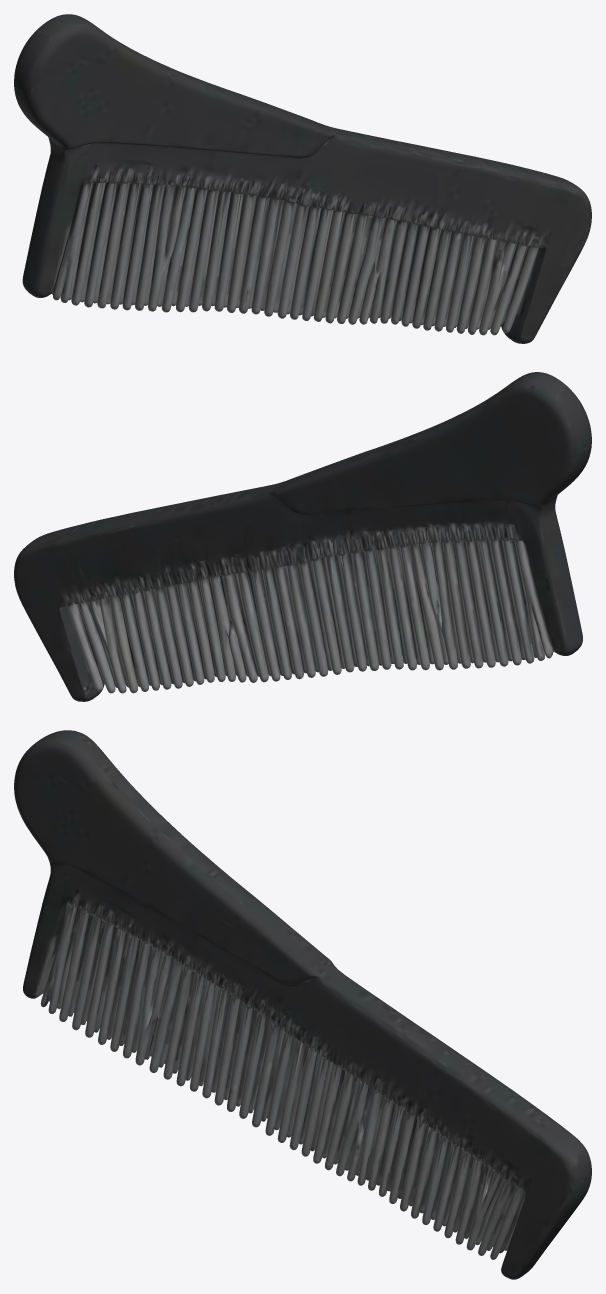
The model's file is tool-shuzi.glb.
3 views of the same model, one above another, from view 1: azimuth 30°, elevation 25°; view 2: azimuth 150°, elevation 25°; view 3: azimuth 330°, elevation 25° (orthographic).
Visible parts, largest first — view 1: node_0; view 2: node_0; view 3: node_0.
Boxes of the visible parts, x1,y1,x2,y2 form: node_0: (14, 14, 591, 343); node_0: (14, 372, 591, 701); node_0: (14, 730, 591, 1279).
Bounding box in the file's own units: 1.03 × 0.752 × 0.0664.
Materials: 1 (1 with a texture image).
